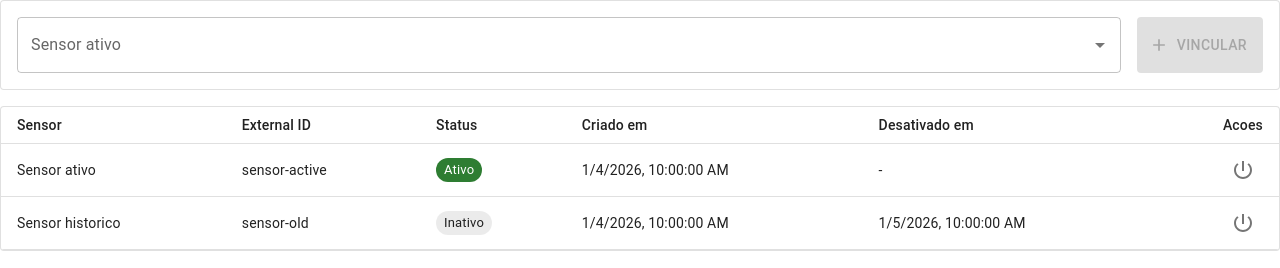
bindings › offers only active sensors for new binding
The image size is (1280, 268).
Click the dropdown labelled "Sensor ativo".
click(554, 45)  # box [26,26,1082,64]
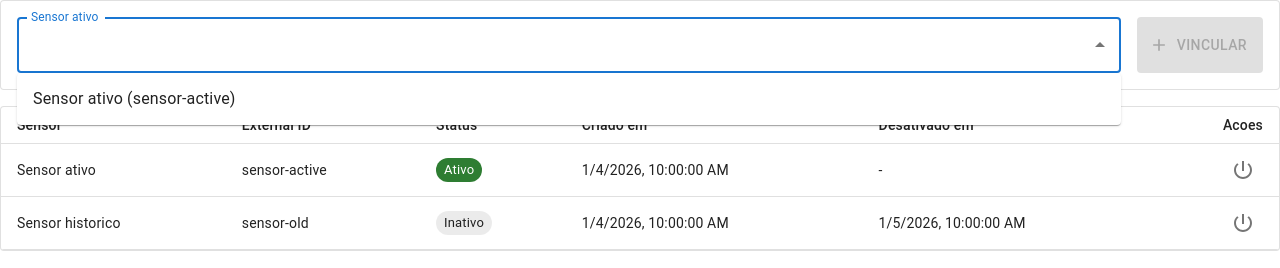
Expected: the option "Sensor ativo (sensor-active)" is shown, [33,89,236,108]
